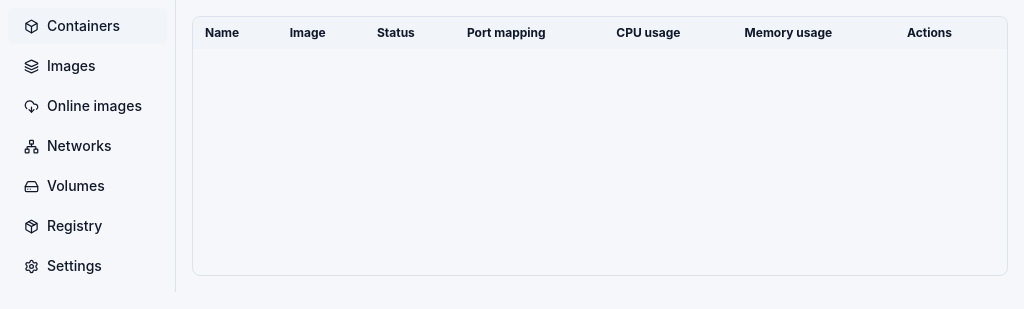
Test: DockerPanel › renders volumes workspace in en-US
Click the tab with id "docker-tab-volumes": [88, 186] box [8,168,167,204]
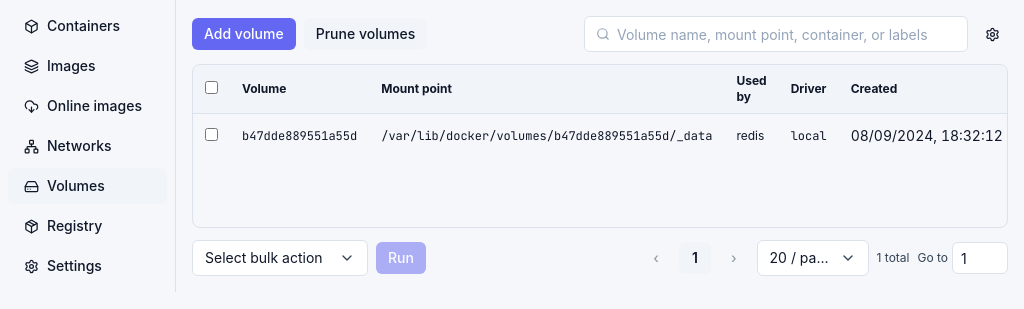
Expected: the text "Add volume" is shown, [192,18,296,50]
Expected: the text "Prune volumes" is shown, [304,18,427,50]
Expected: the text "Mount point" is shown, [369,65,724,114]
